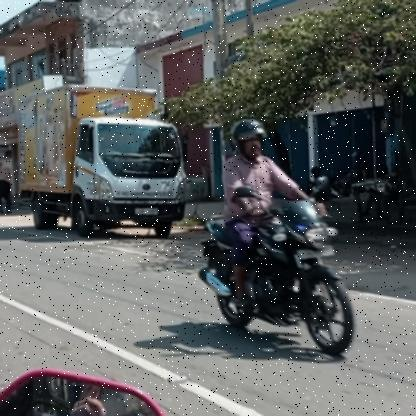motorcycle: (195, 197, 358, 358)
